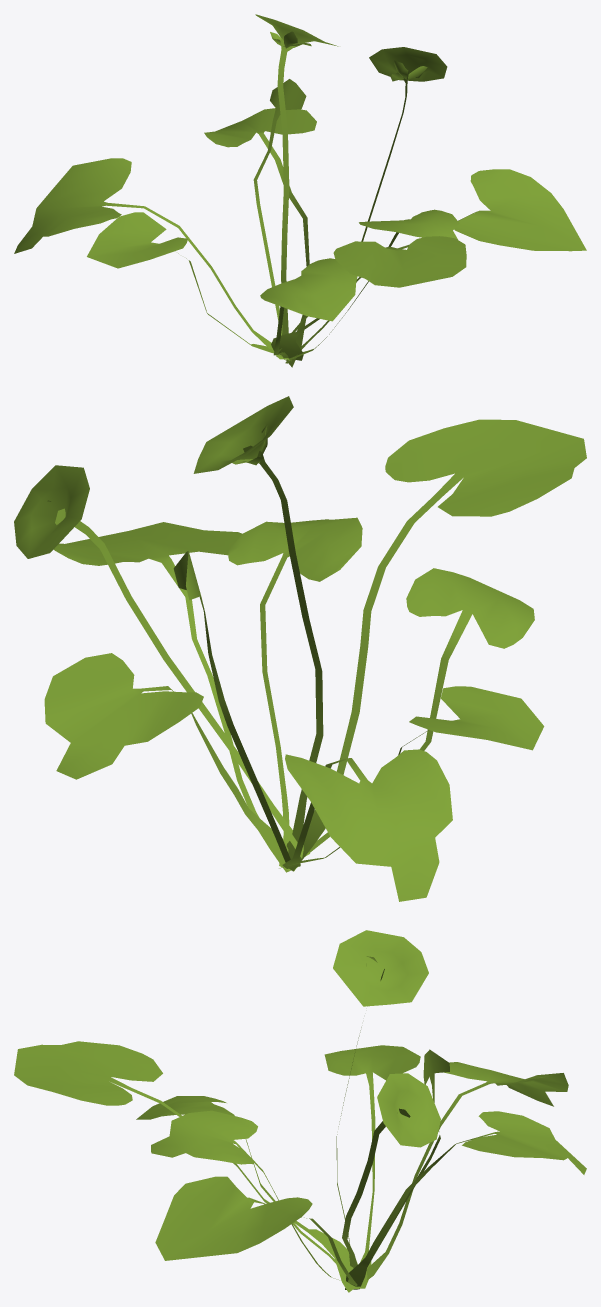
File: groundcover_13.fbx
3 views of the same model, one above another, from view 1: azimuth 30°, elevation 25°; view 2: azimuth 150°, elevation 25°; view 3: azimuth 270°, elevation 25° (orthographic). The views are drawn at different scales.
Visible parts, largest first — view 1: groundcover_13_LOD0; view 2: groundcover_13_LOD0; view 3: groundcover_13_LOD0.
Boxes of the visible parts, <box> form: groundcover_13_LOD0: <box>14,14,586,367</box>; groundcover_13_LOD0: <box>14,396,586,901</box>; groundcover_13_LOD0: <box>14,930,586,1292</box>.
Bounding box in the file's own units: 0.1877 × 0.1506 × 0.2196.
